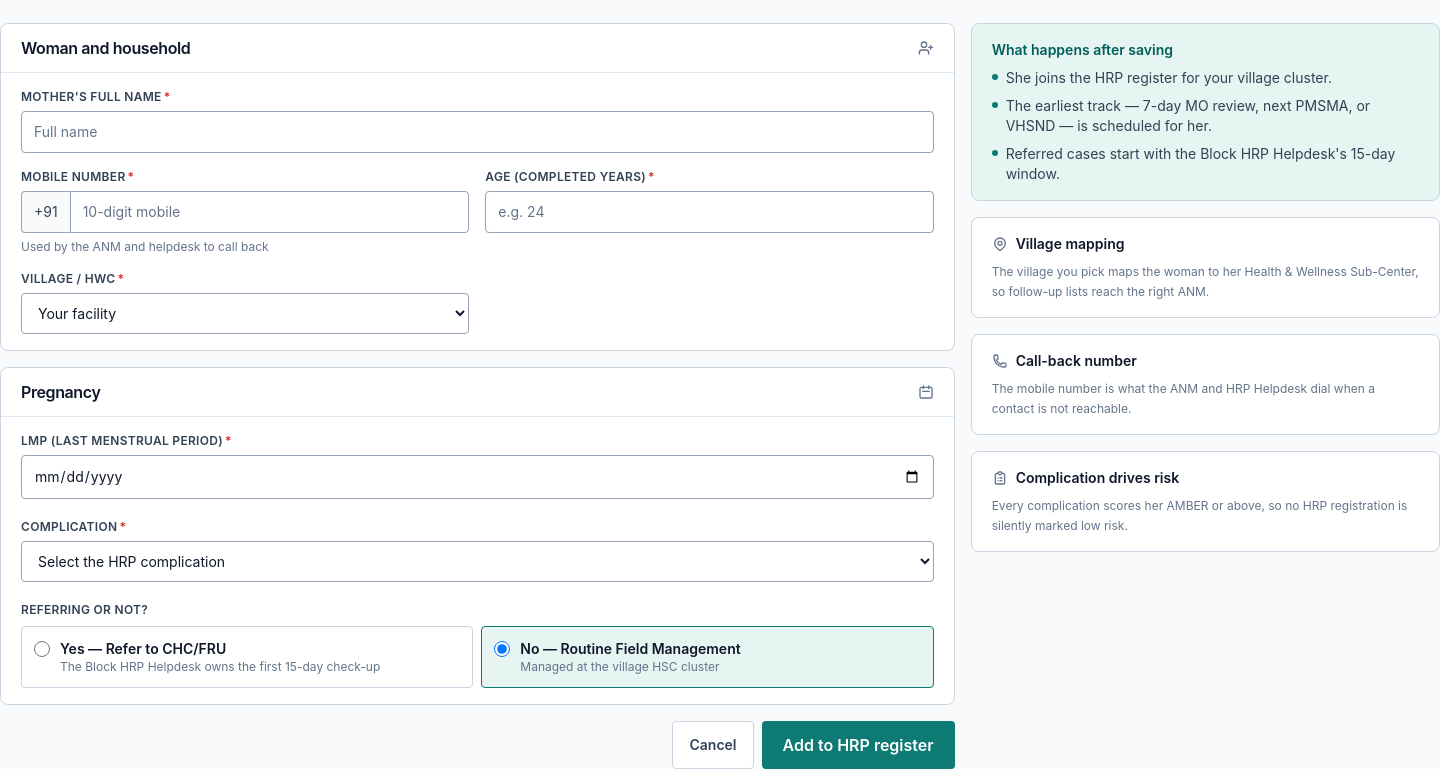
Scenario: AddPatientPage › requires mandatory fields before saving
The image size is (1440, 769).
Step 1. Click the button "Add to HRP register" → {"x": 858, "y": 745}, box [762,721,955,768]
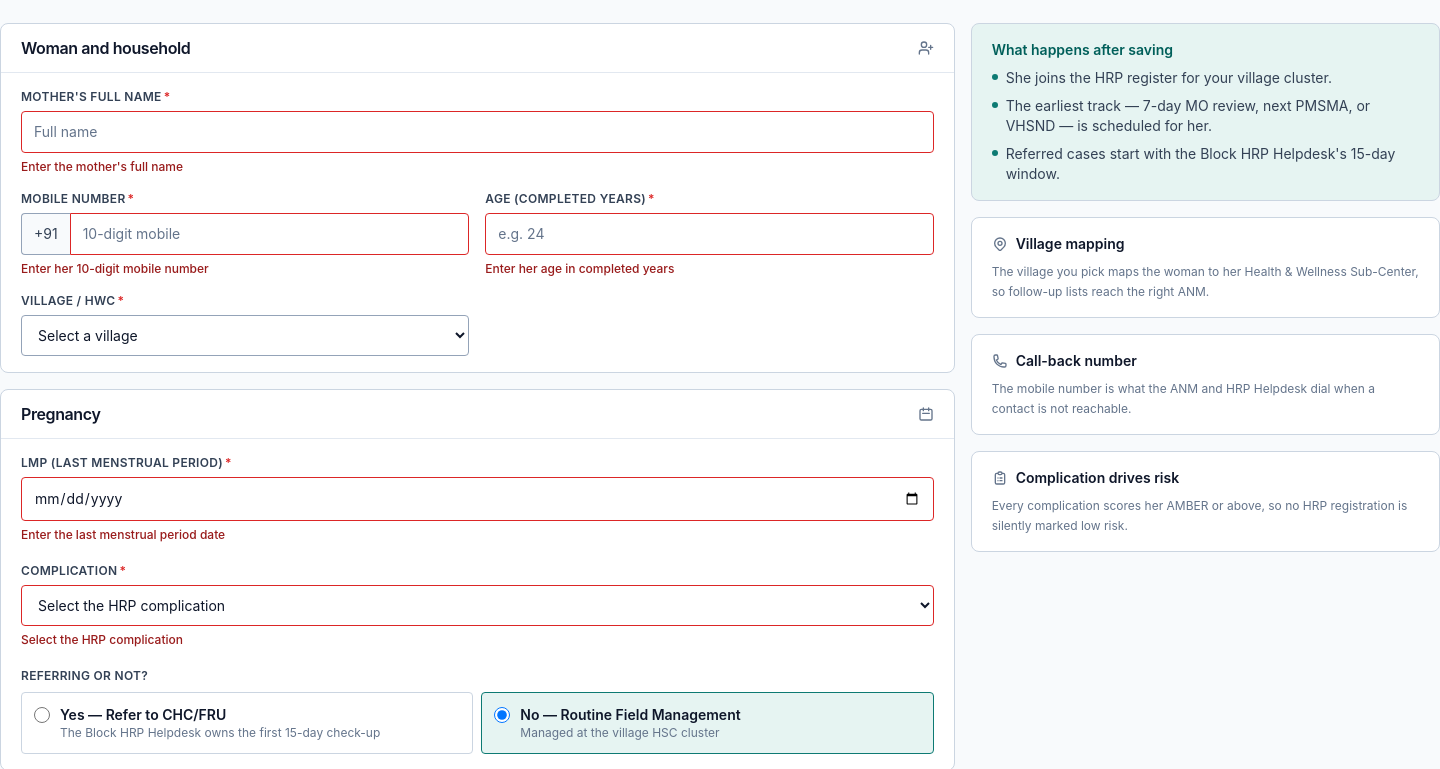
Result: the text "Enter the mother's full name" is shown at [21,159,183,174]
Result: the text "Enter her 10-digit mobile number" is shown at [21,261,209,276]
Result: the text "Enter her age in completed years" is shown at [485,261,674,276]
